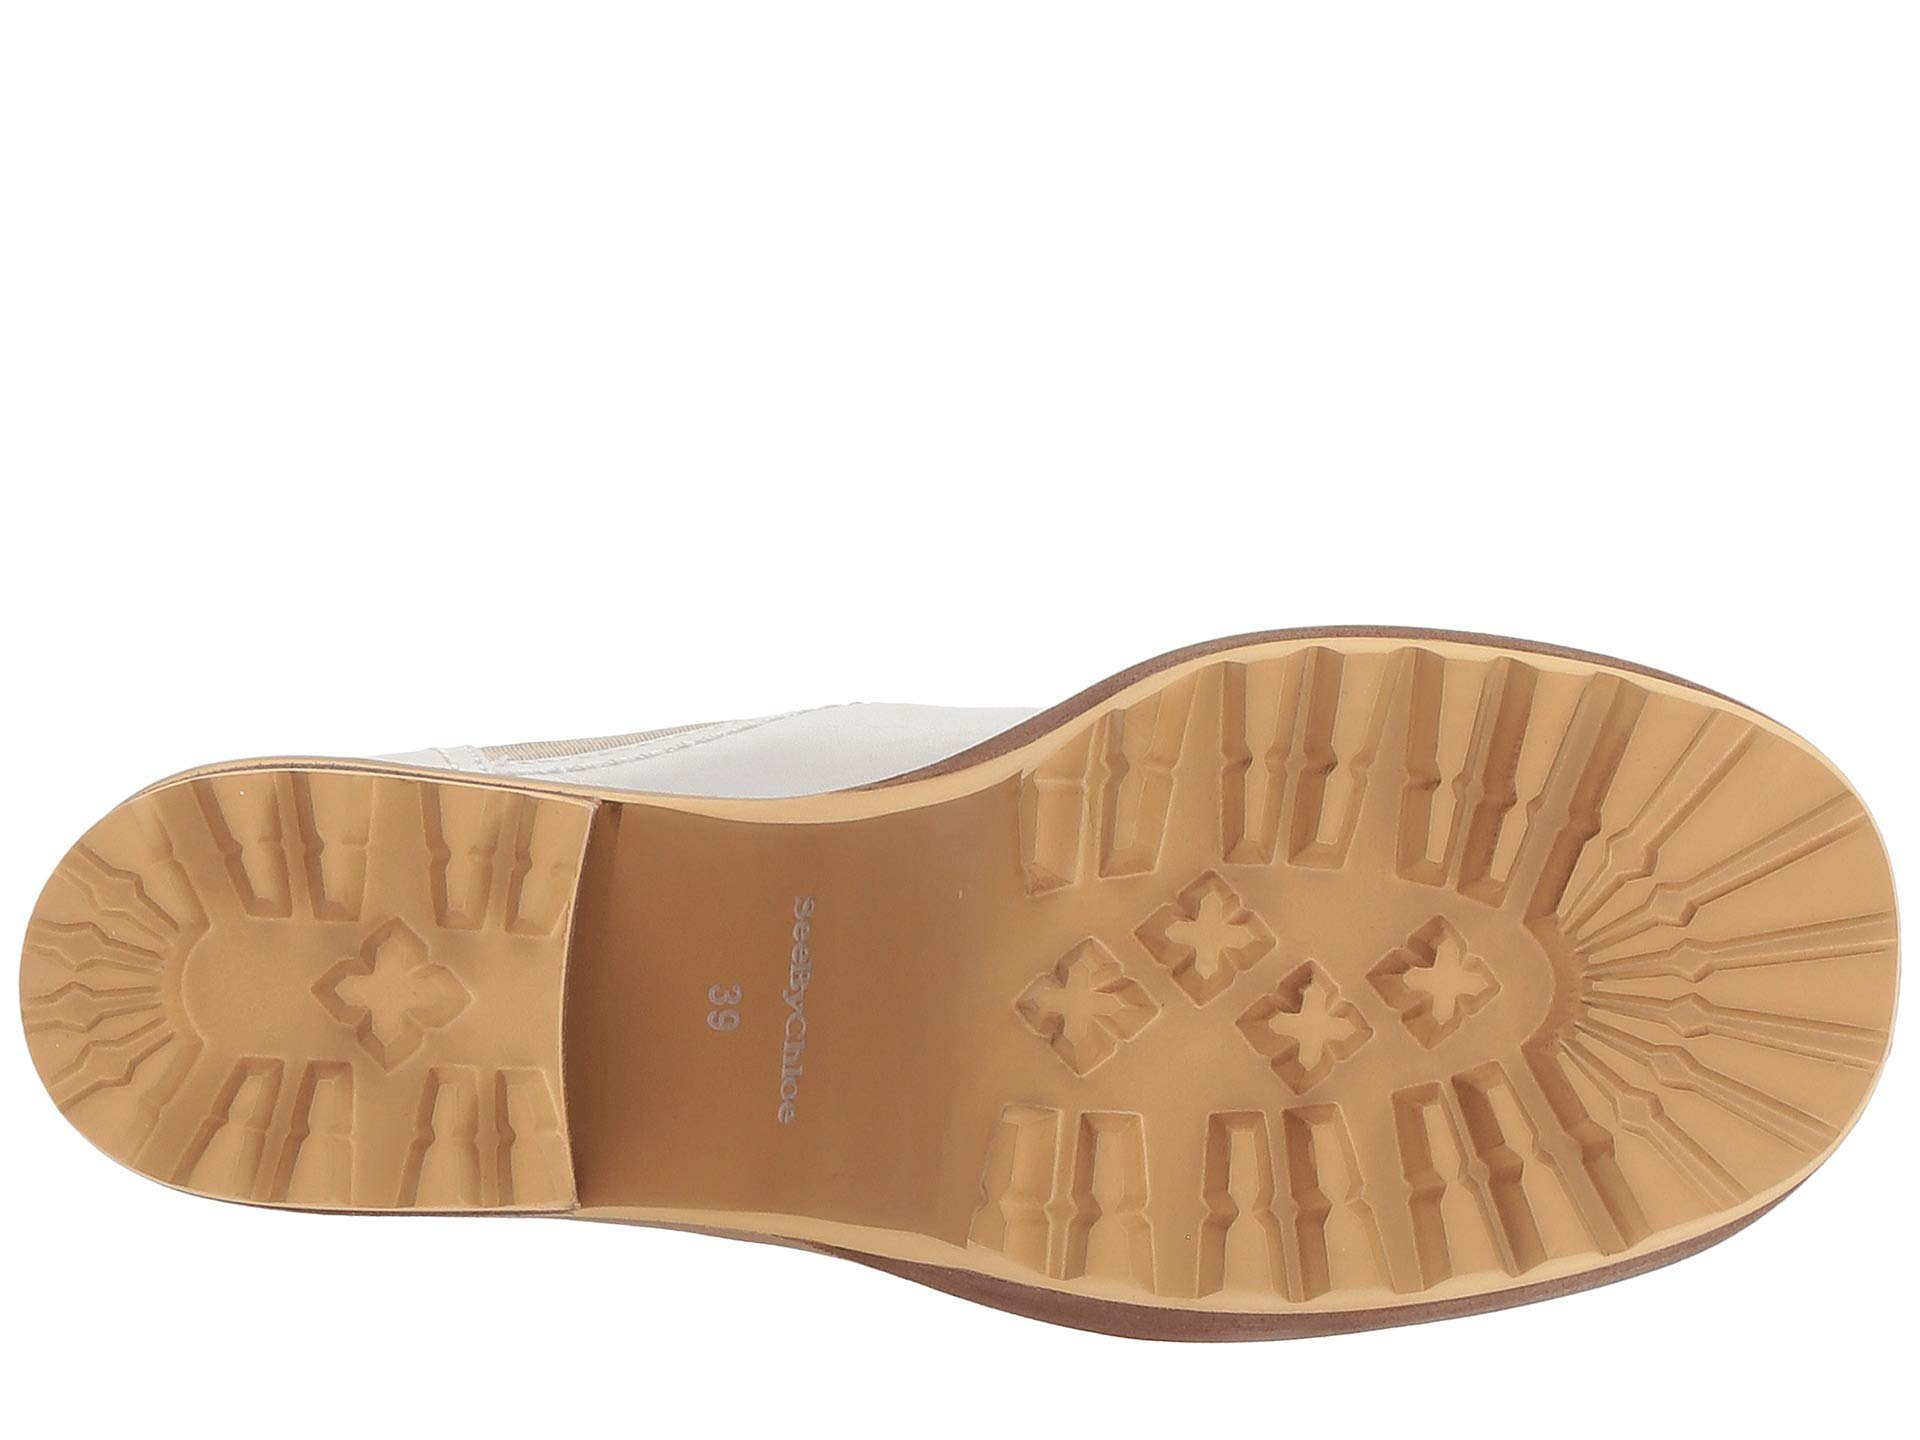bowtie: (1102, 656, 1707, 1278), (138, 771, 609, 1240)
star: (1102, 656, 1707, 1278), (138, 771, 609, 1240)
text: (661, 849, 931, 1186)
